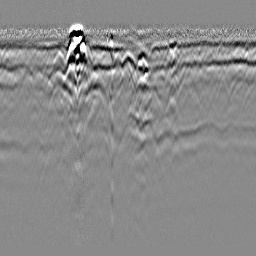cavity: (120, 50, 136, 69)
